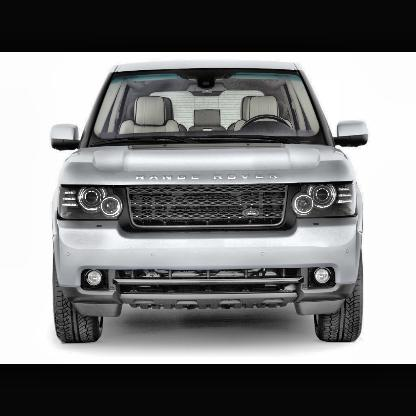Land Rover Range Rover SUV 2012: (45, 59, 370, 343)
